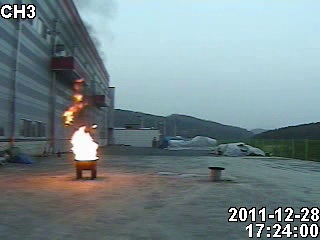fire: (60, 76, 101, 162)
